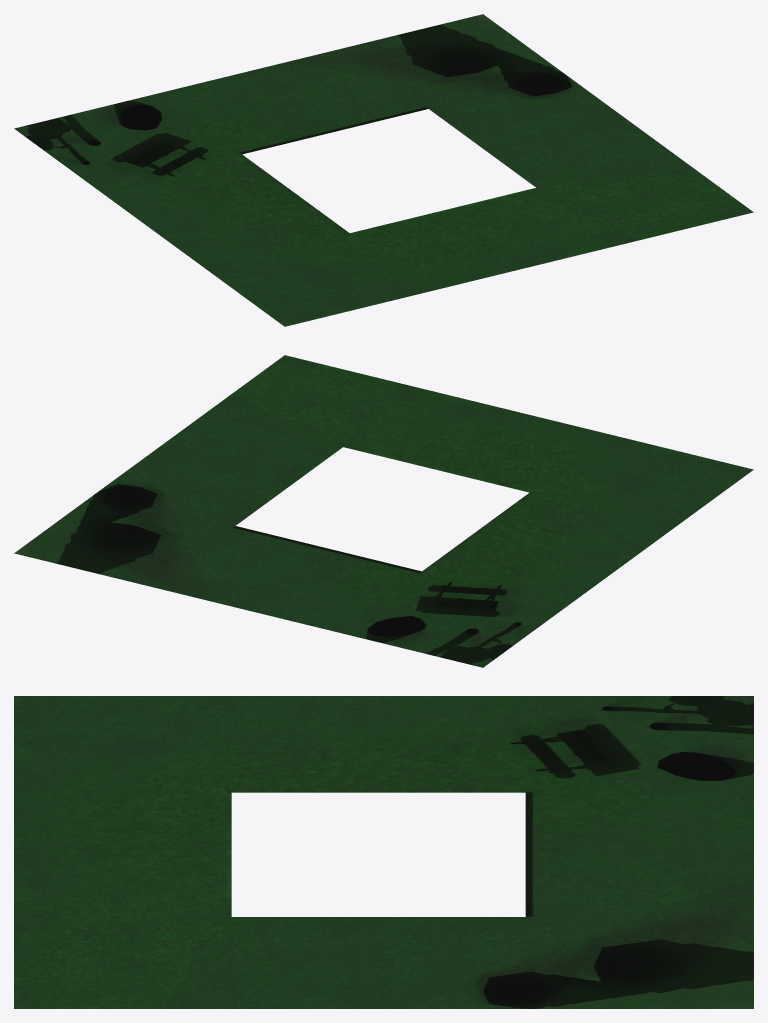
The model's file is Grass.obj.
3 views of the same model, one above another, from view 1: azimuth 30°, elevation 25°; view 2: azimuth 150°, elevation 25°; view 3: azimuth 270°, elevation 25° (orthographic). The views are drawn at different scales.
Visible parts, largest first — view 1: Grid; view 2: Grid; view 3: Grid.
Part boxes in pixels (<box>): Grid: <box>14,14,753,326</box>; Grid: <box>14,355,753,667</box>; Grid: <box>14,696,753,1008</box>.
Size of the model in its own units: 71.88 by 0 by 71.88.
